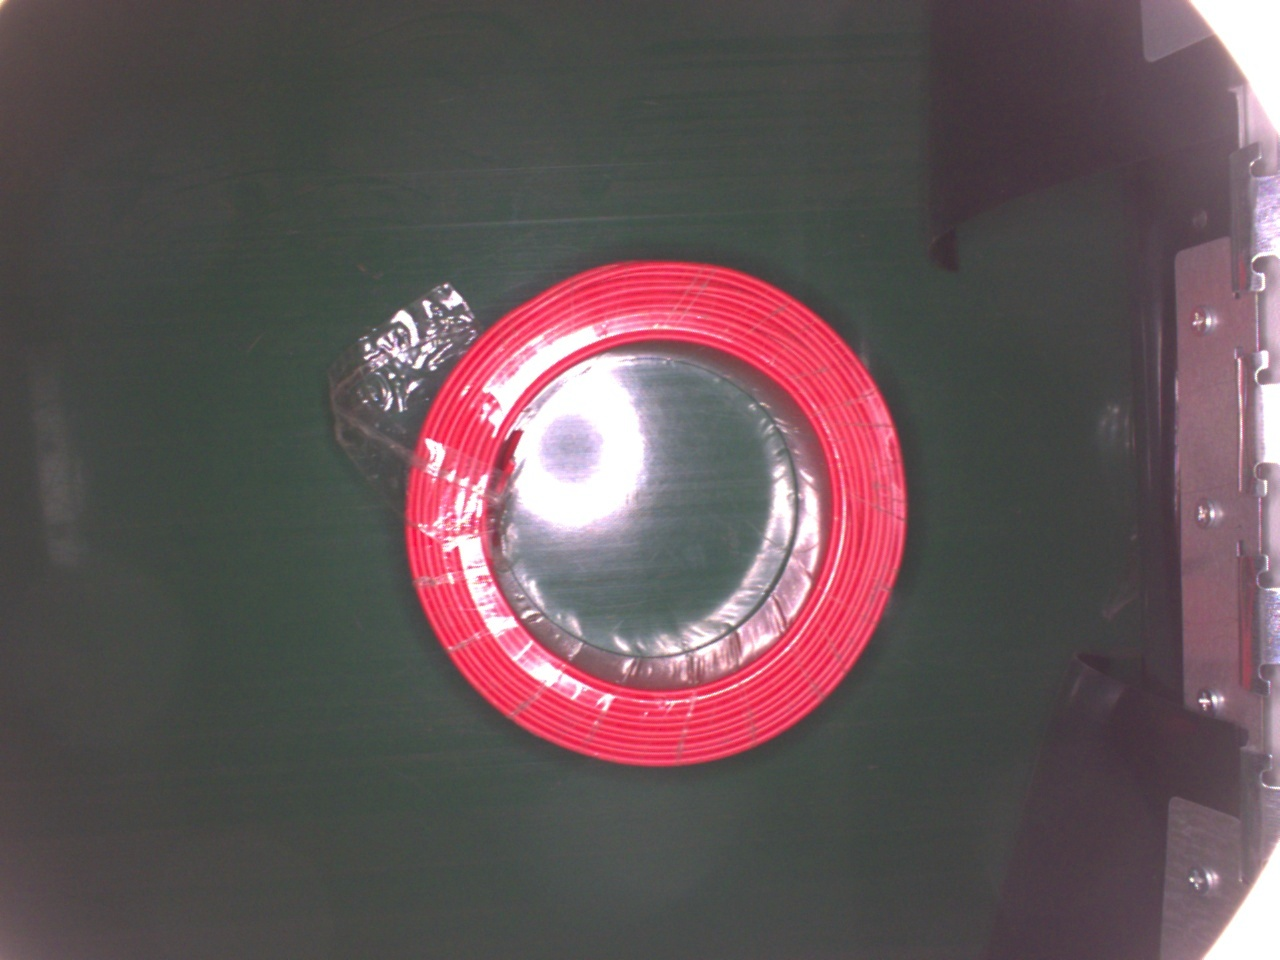red: (404, 253, 909, 770)
